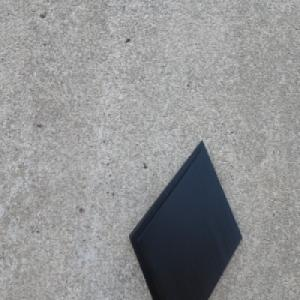PlasticPart: (128, 138, 242, 300)
